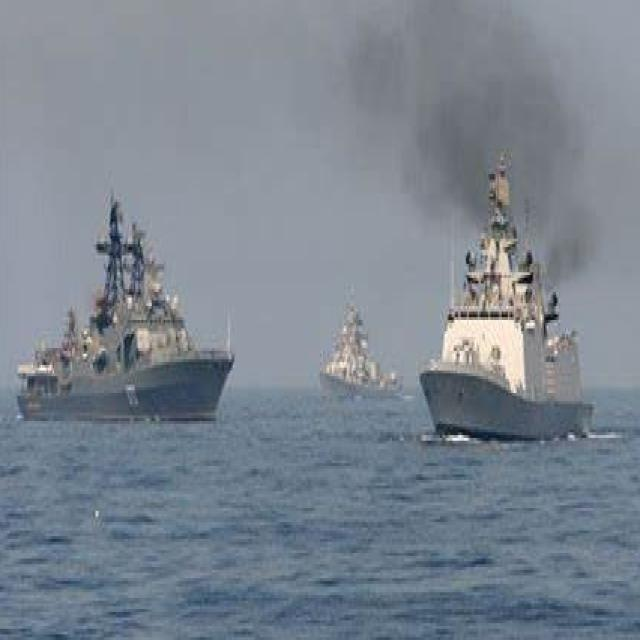navalvessels: (5, 190, 244, 430), (412, 152, 596, 444), (321, 295, 402, 398)
